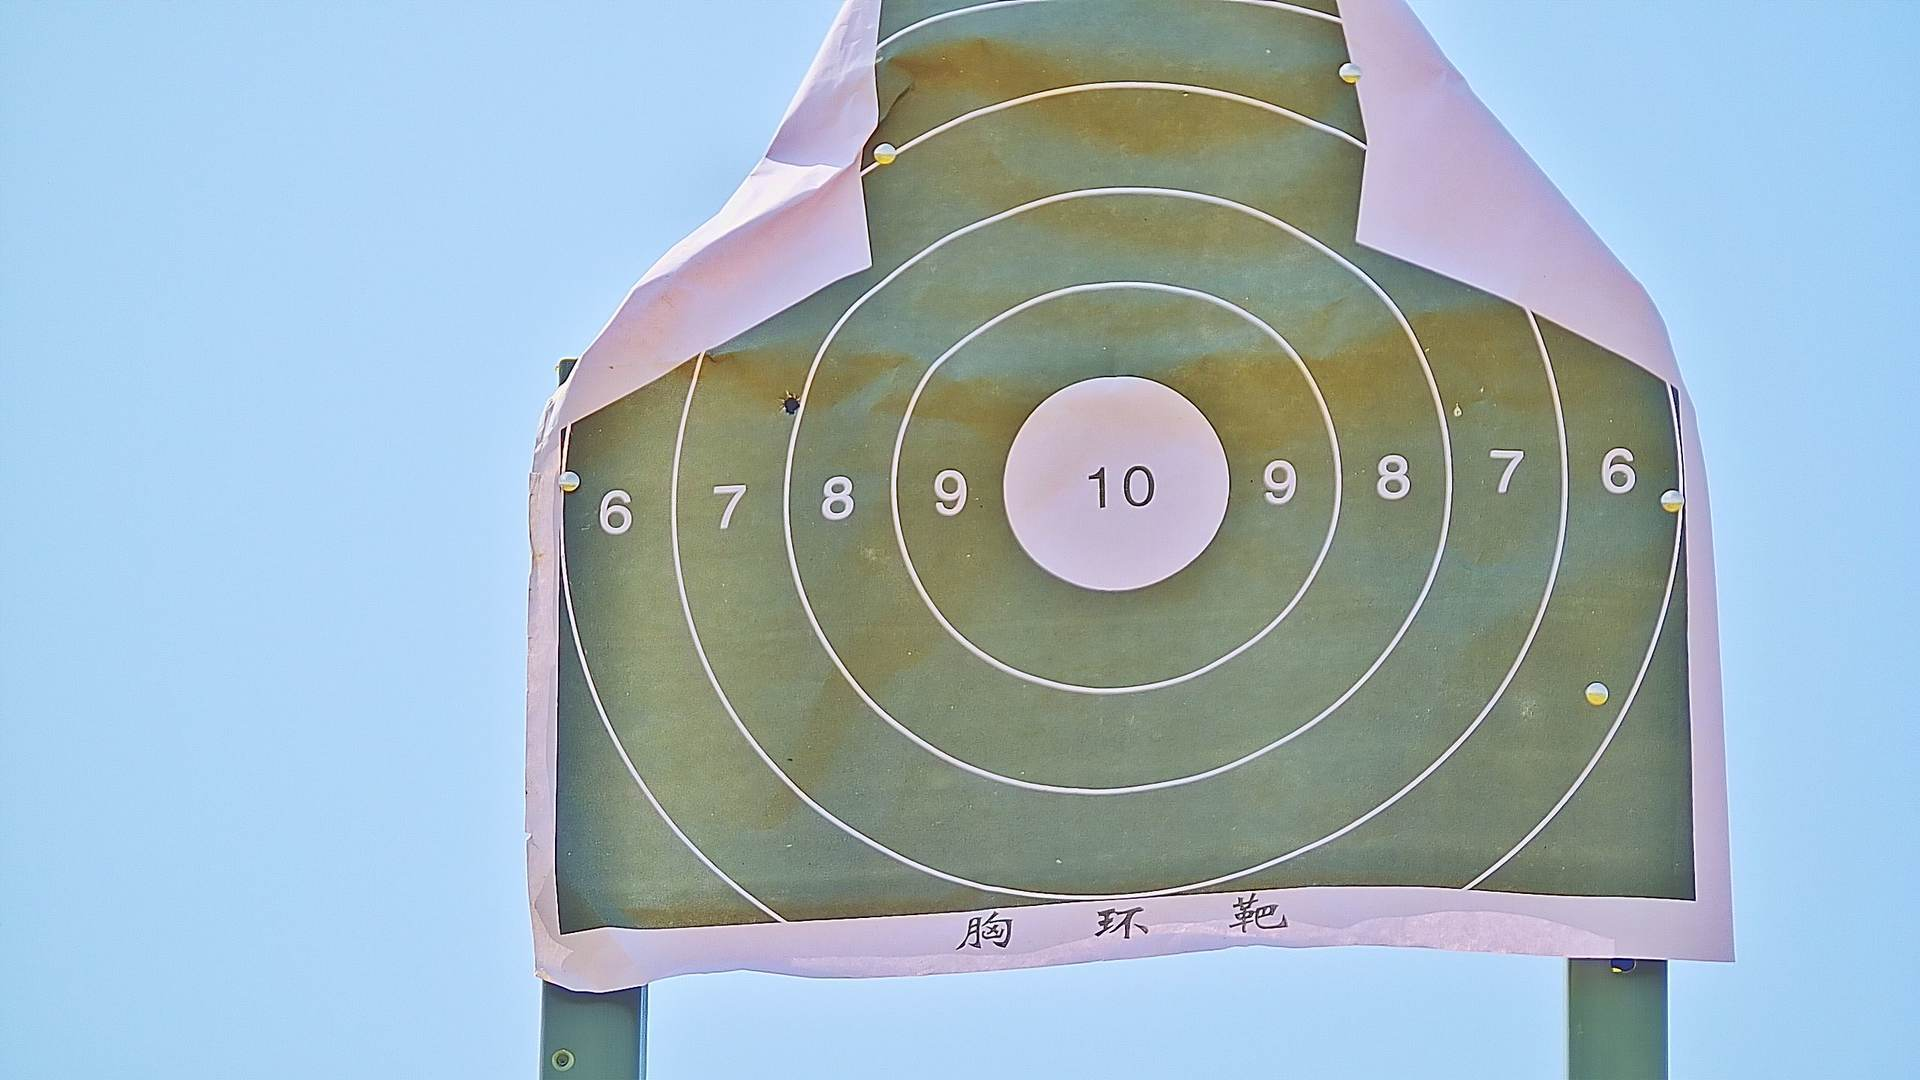hole: (785, 396, 798, 418)
kernel: (1113, 484, 1116, 495)
target: (550, 1, 1702, 920)
ten: (1000, 369, 1236, 591)
